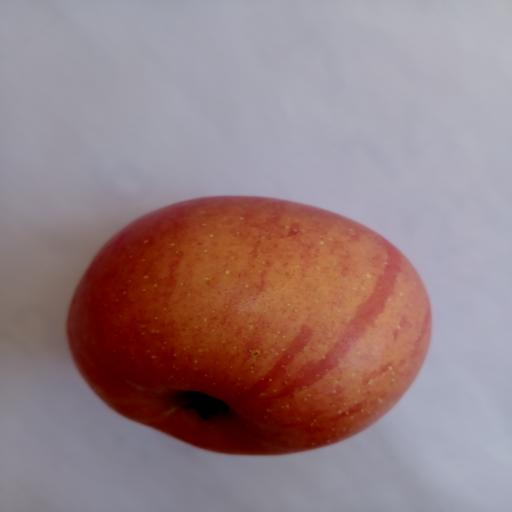apple-ripe: (59, 188, 447, 466)
